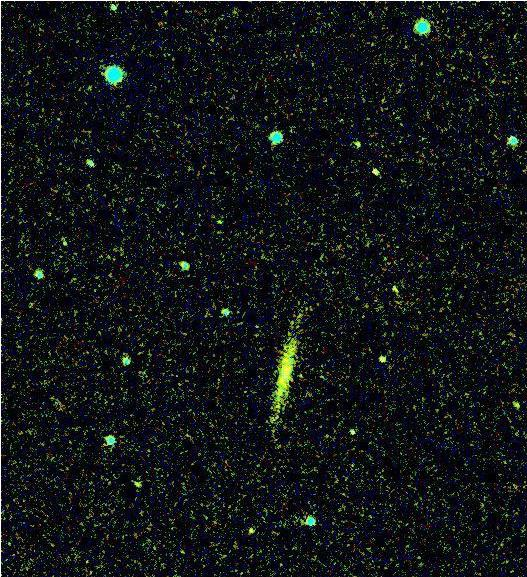star: (122, 468, 152, 498)
